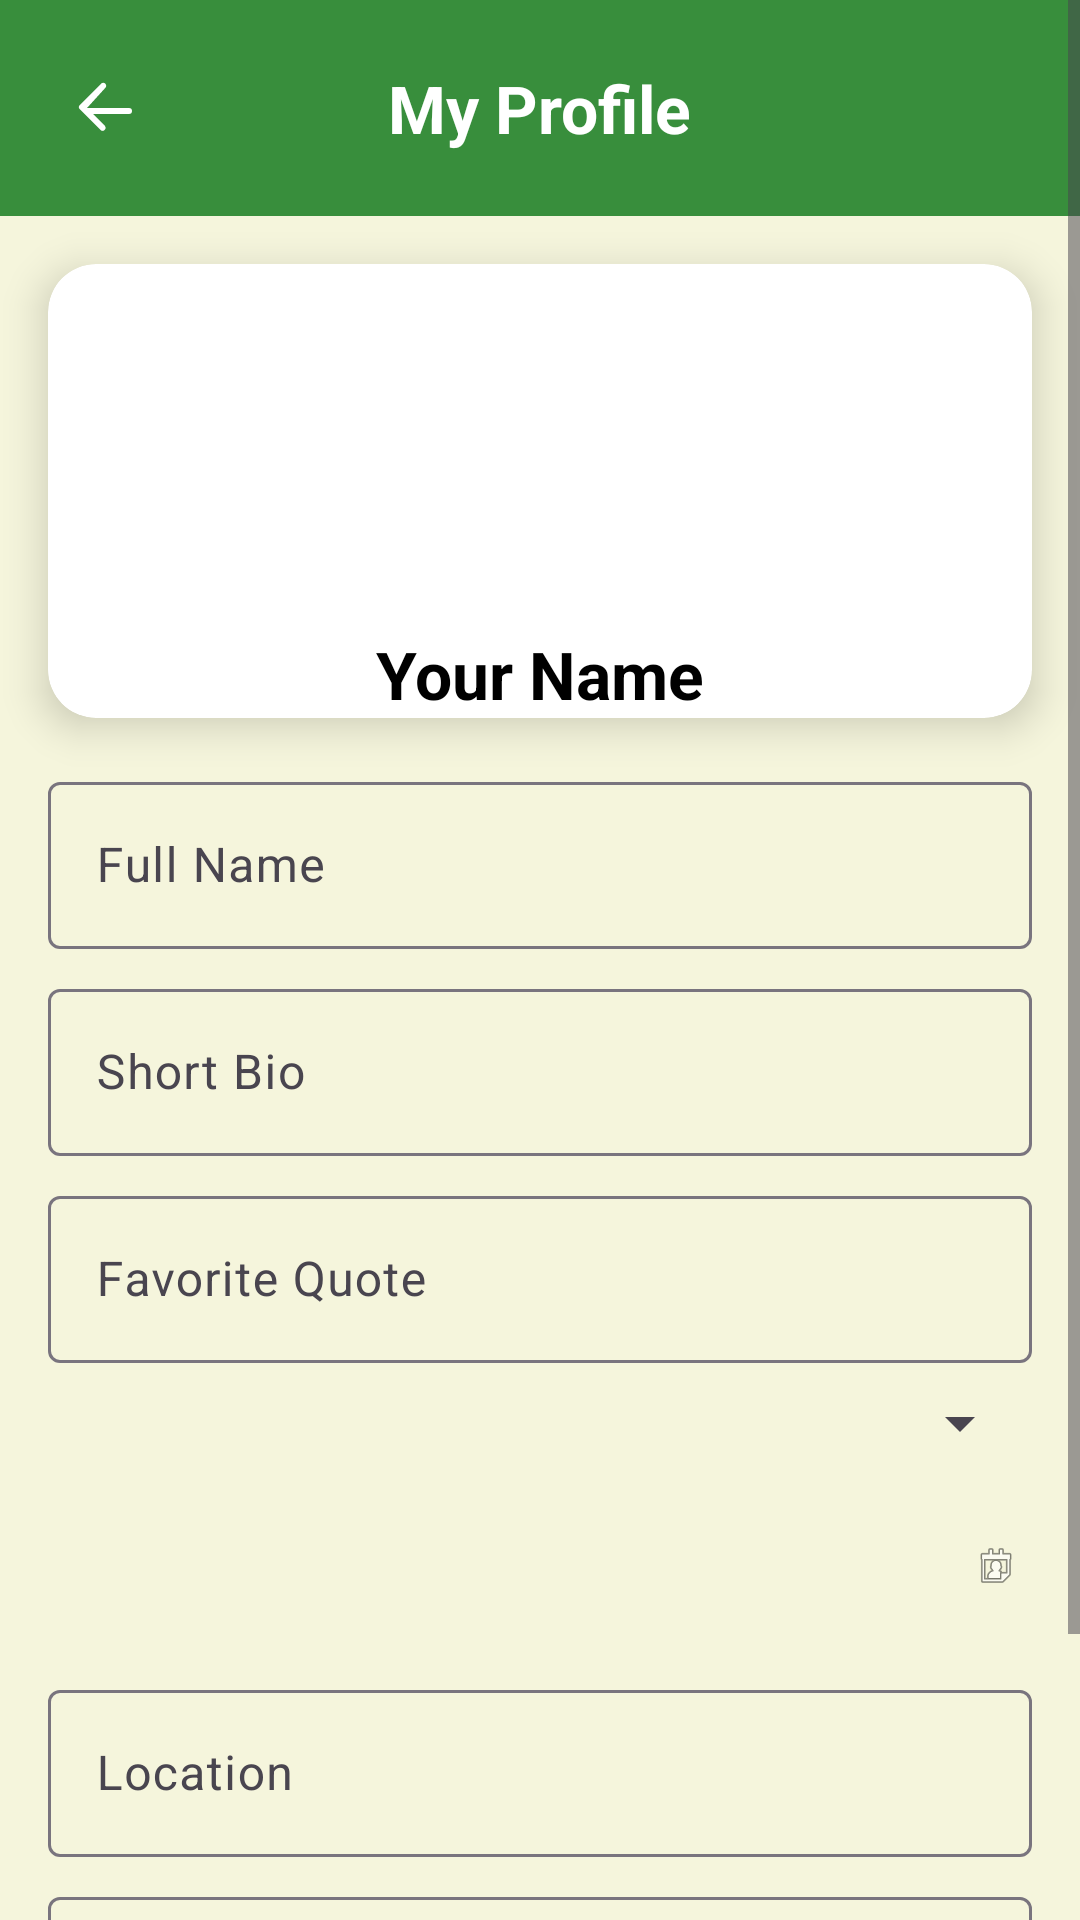

Icon click points for this 1080px x 1920px phone screenshot, format [x,y]:
Back: [105,106]
Open Calendar: [996,1565]
